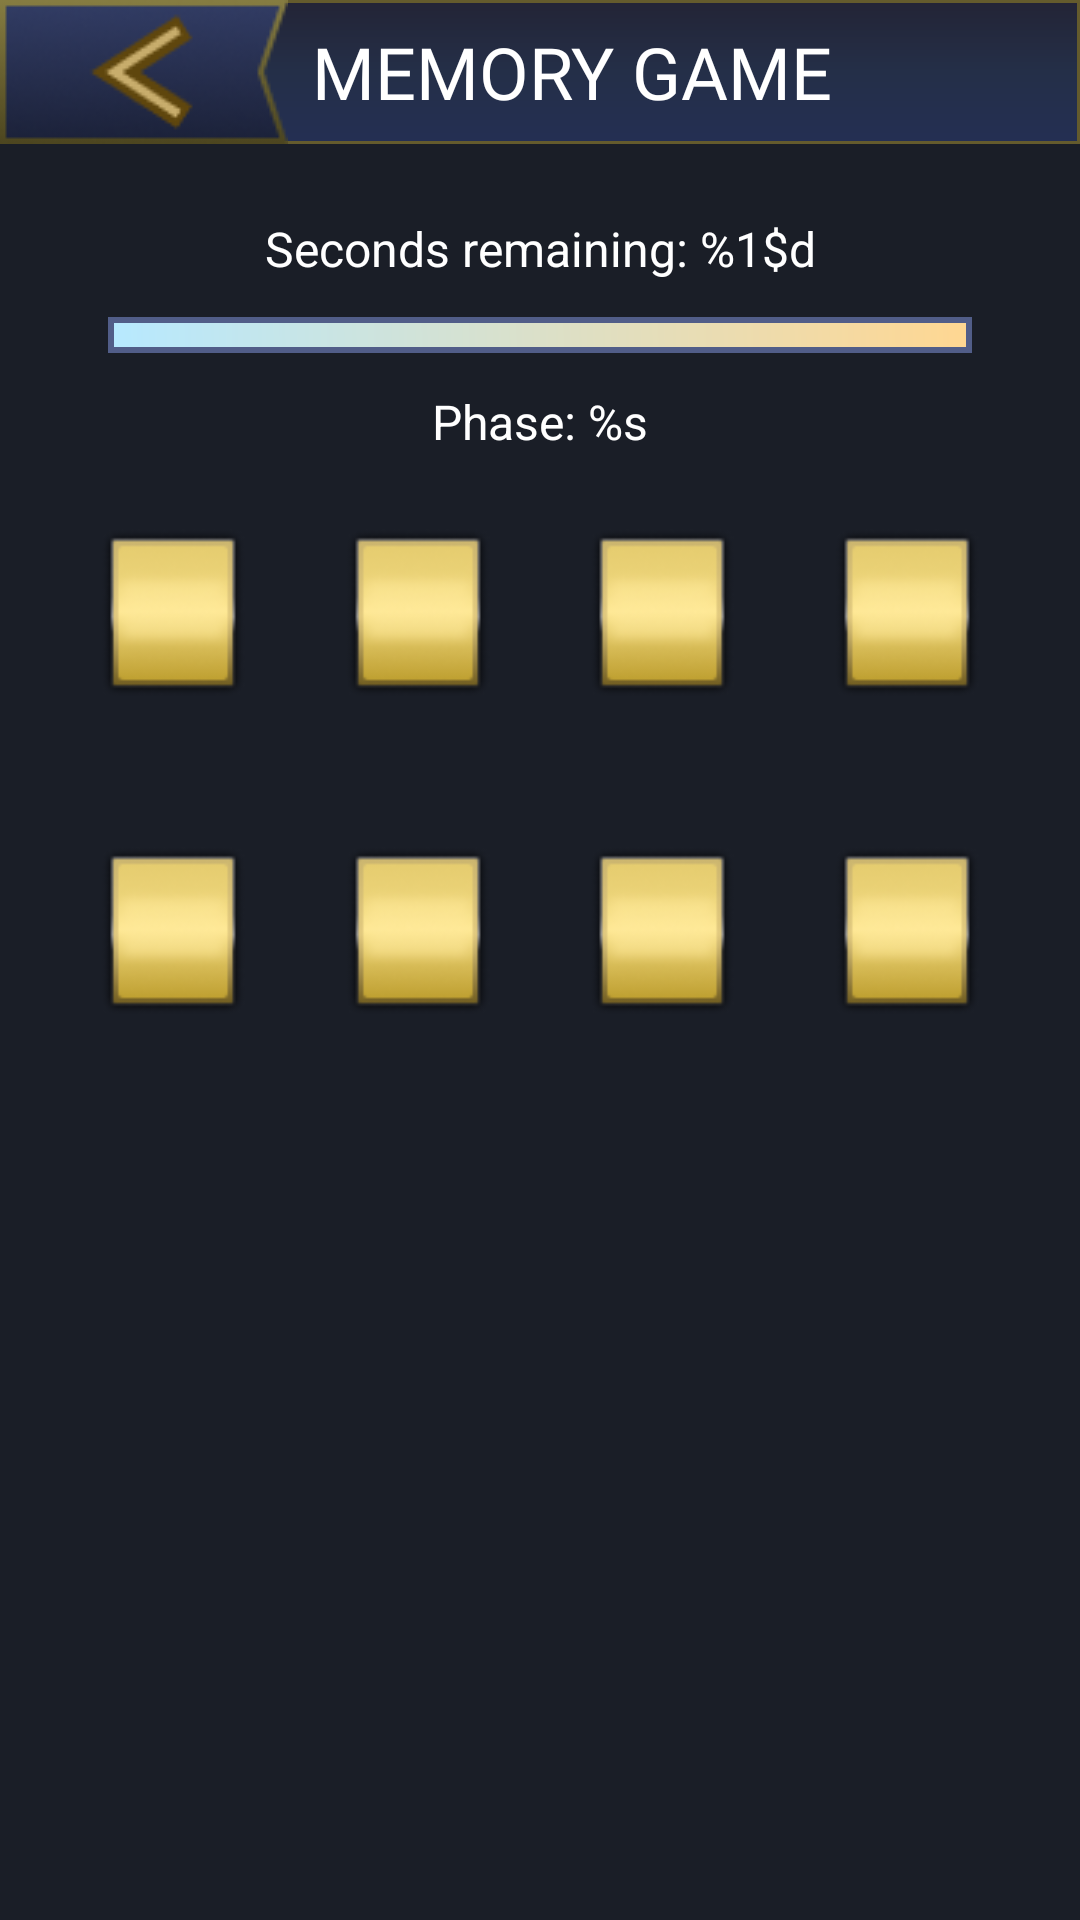

Icon bounding boxes for this 1080*1920 phone screenshot, format (x1, y1, x2, y2):
back: (0, 0, 288, 144)
back card: (110, 538, 236, 686), (355, 538, 481, 686), (599, 538, 725, 686), (844, 538, 970, 686), (110, 856, 236, 1004), (355, 856, 481, 1004), (599, 856, 725, 1004), (844, 856, 970, 1004)
